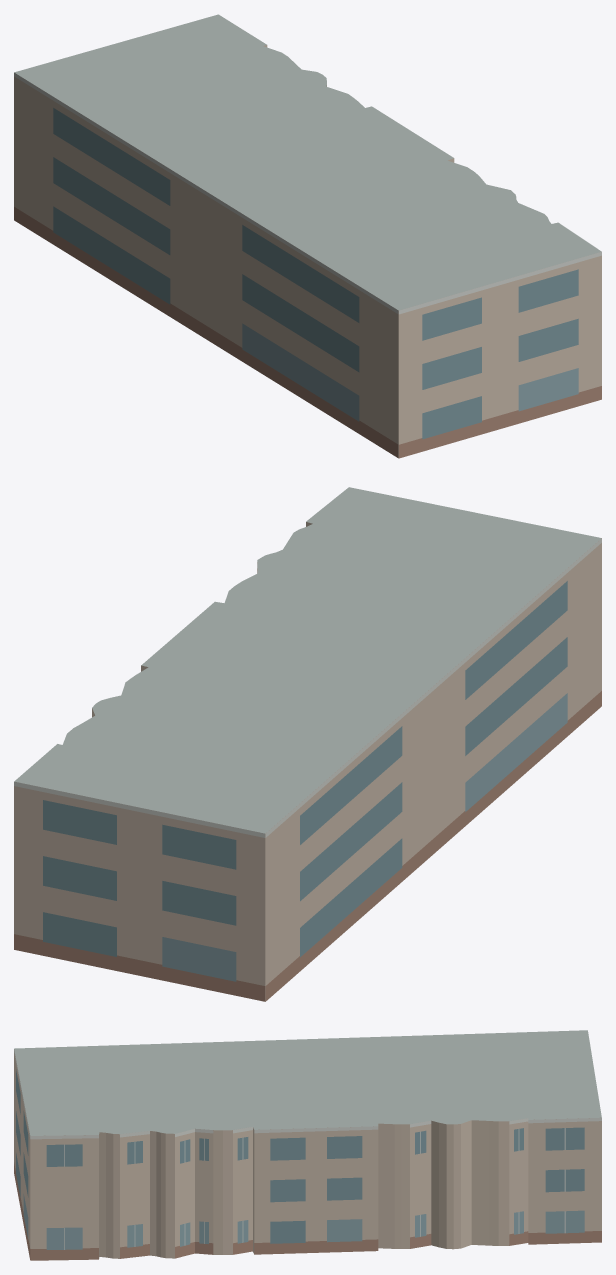
The model's file is survey-upis-32460895.glb.
3 views of the same model, one above another, from view 1: azimuth 30°, elevation 25°; view 2: azimuth 150°, elevation 25°; view 3: azimuth 270°, elevation 25° (orthographic). The views are drawn at different scales.
Parts seen in each view (by area): view 1: survey-upis-32460895.tmp; view 2: survey-upis-32460895.tmp; view 3: survey-upis-32460895.tmp.
Boxes of the visible parts, x1,y1,x2,y2 form: survey-upis-32460895.tmp: (14,14,601,458); survey-upis-32460895.tmp: (14,487,601,1001); survey-upis-32460895.tmp: (14,1030,601,1260).
Bounding box in the file's own units: 16.66 × 9.15 × 39.1.
